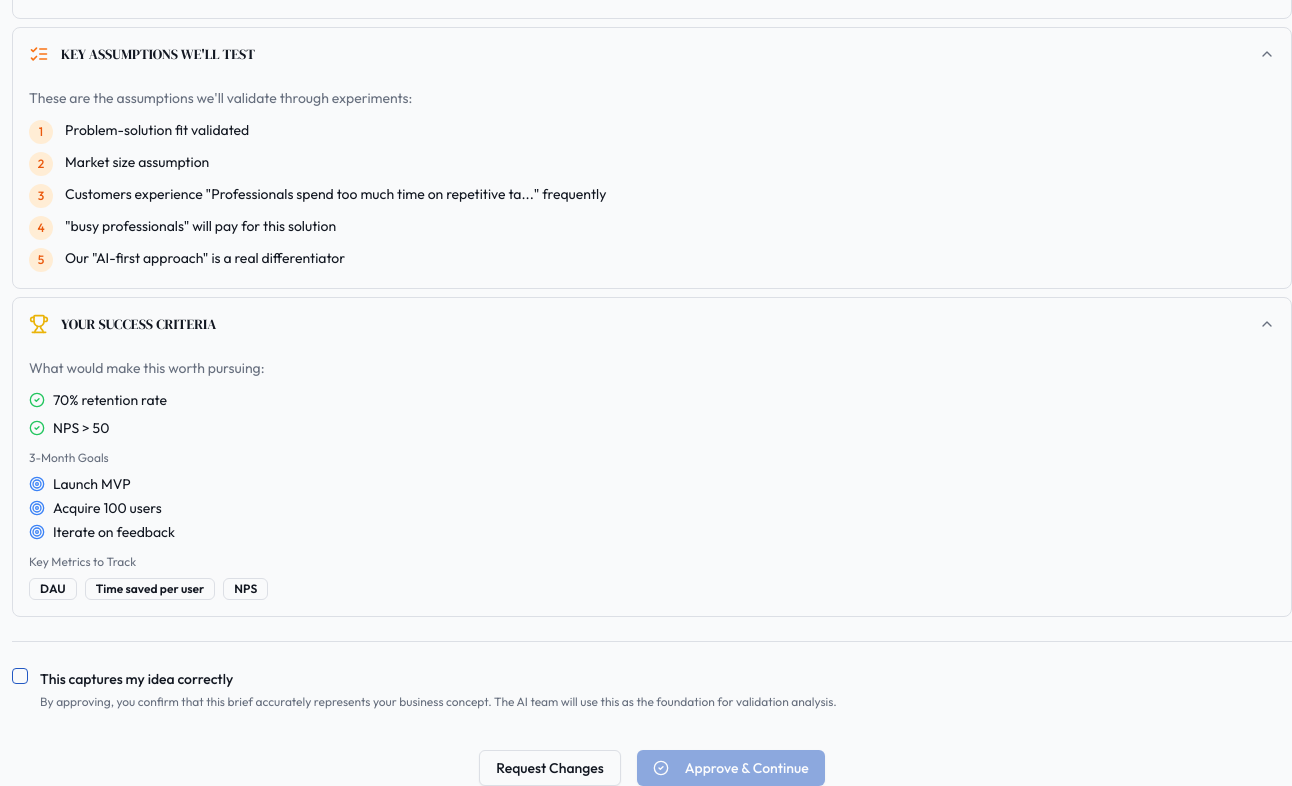
FoundersBriefReview › Confirmation Checkbox › should enable approve button when confirmed
The width and height of the screenshot is (1292, 786).
(page scrolled)
Click the checkbox at (20, 676), box [12,668,28,684]
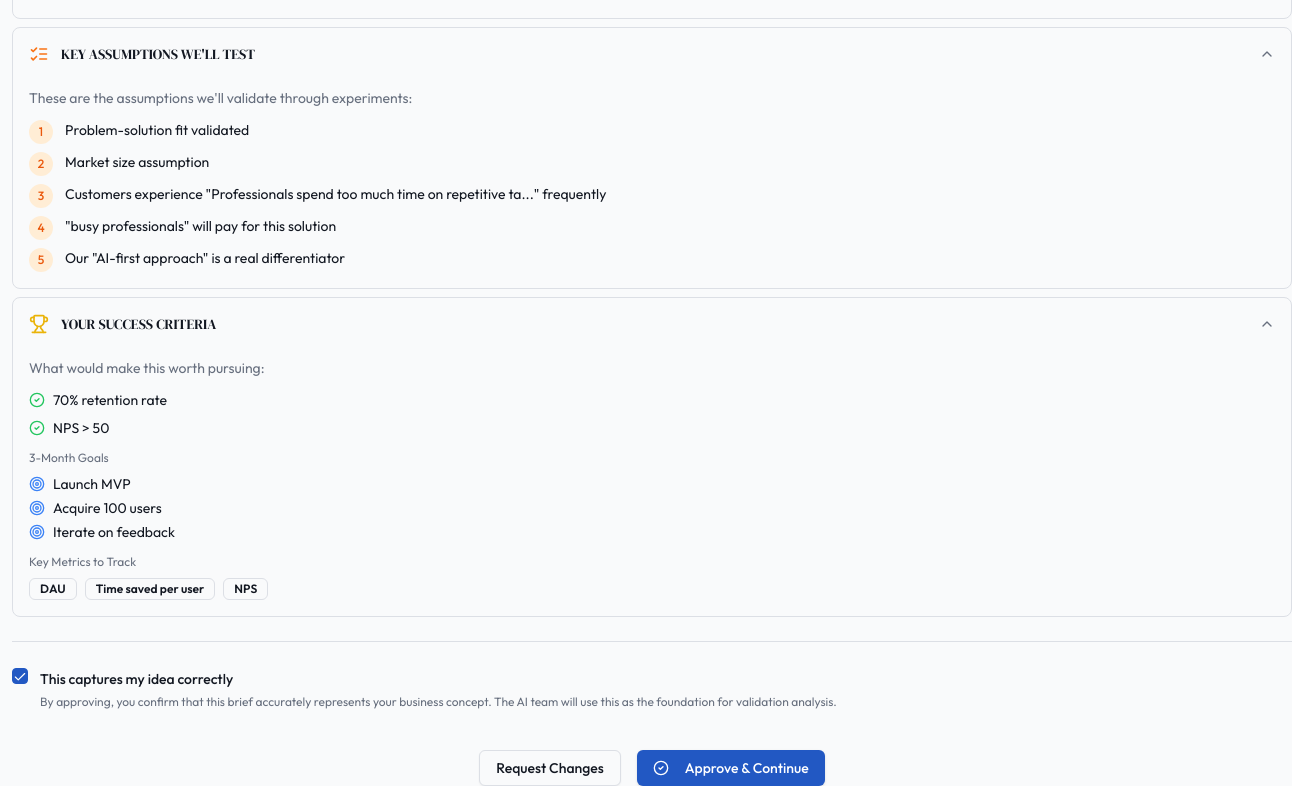
Now the button "Approve & Continue" is enabled, box [637,750,825,785]
